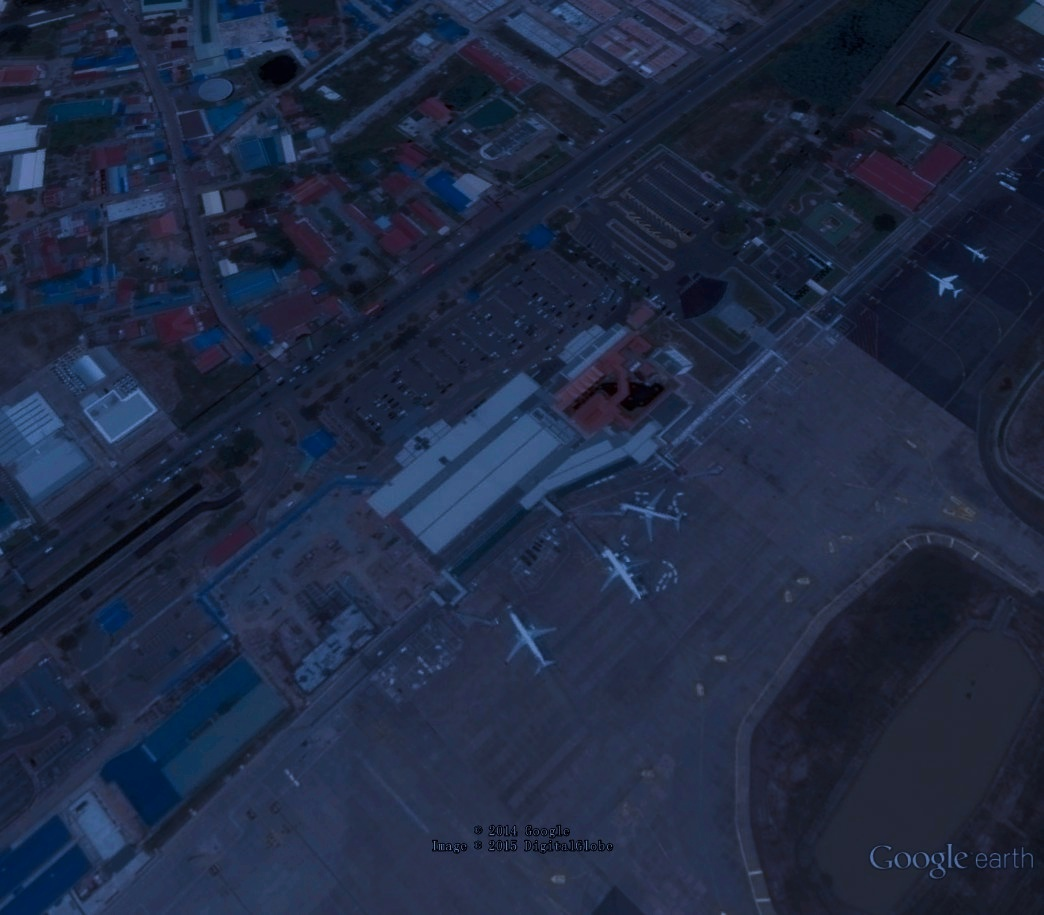aircraft: (499, 606, 564, 676), (616, 486, 690, 546), (594, 540, 658, 607), (925, 265, 967, 301), (957, 238, 996, 268)
